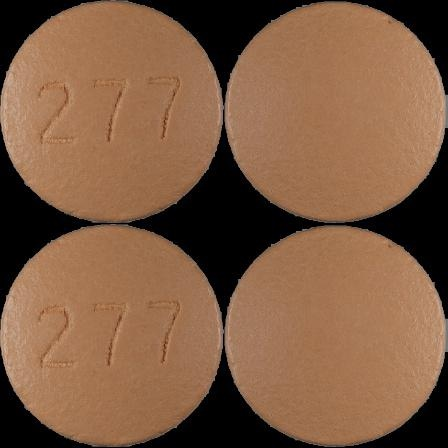55154-5041: (0, 0, 224, 224)
